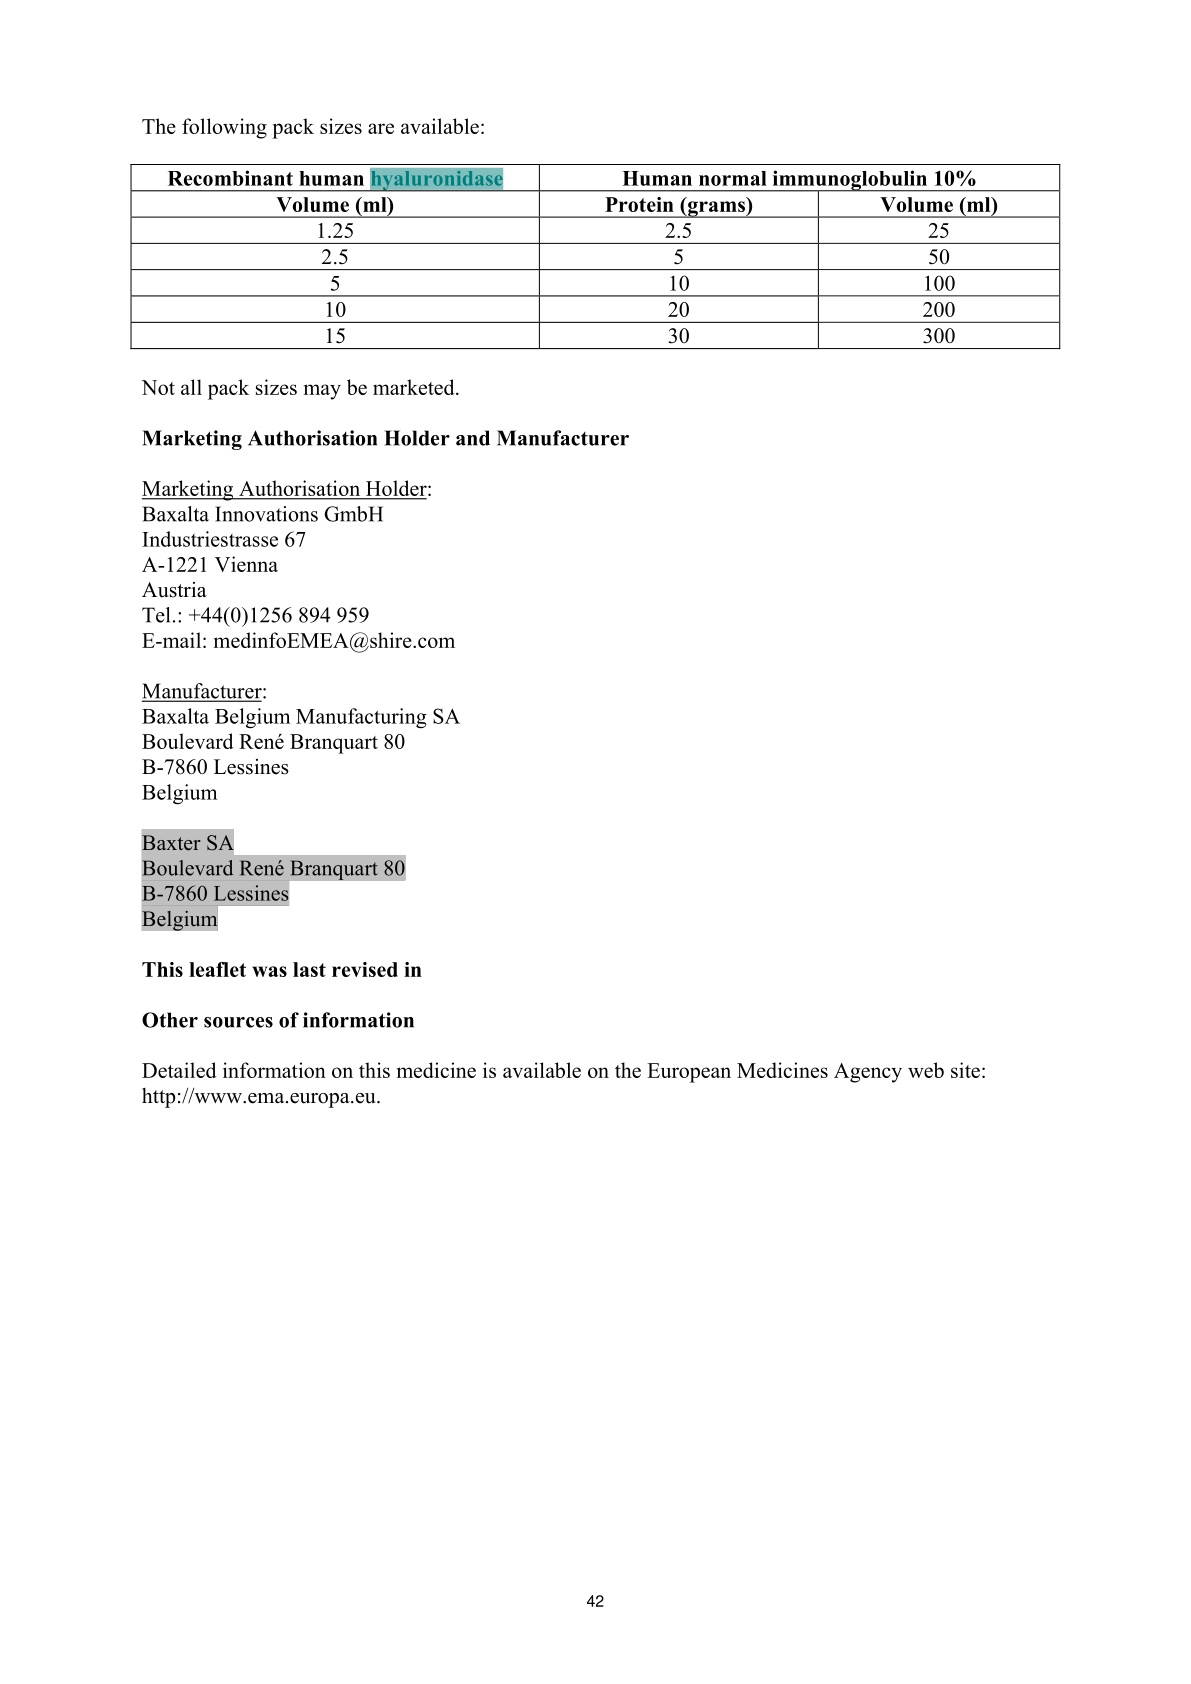merged_cells: (129, 162, 1062, 350)
